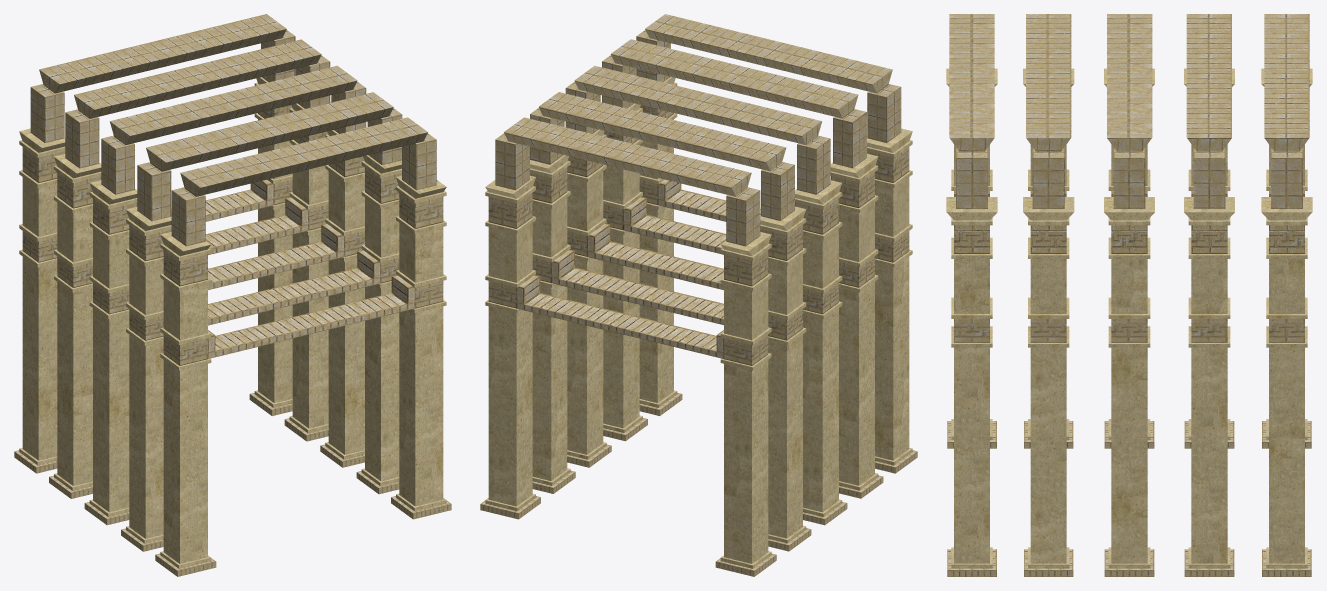
Rendered from tutorial_structure_pillar01.dae.
3 renders of one model, left to right at view 1: azimuth 30°, elevation 25°; view 2: azimuth 150°, elevation 25°; view 3: azimuth 270°, elevation 25°, orthographic. The views are drawn at different scales.
Parts seen in each view (by area): view 1: tutorial_structure_pillar01; view 2: tutorial_structure_pillar01; view 3: tutorial_structure_pillar01.
Boxes of the visible parts, x1,y1,x2,y2 form: tutorial_structure_pillar01: (14,14,451,576); tutorial_structure_pillar01: (480,14,917,576); tutorial_structure_pillar01: (946,14,1312,576).
Bounding box in the file's own units: 17.12 × 17.75 × 22.83.
5 materials, 5 textured.
